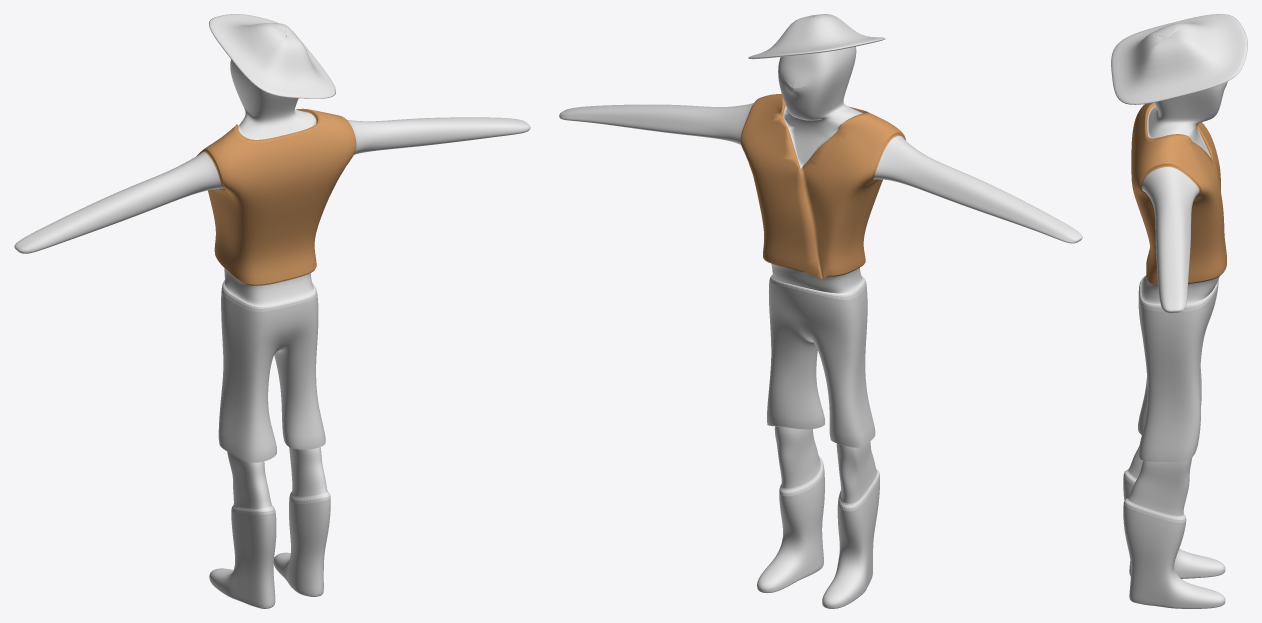
The model's file is Hero.fbx.
3 views of the same model, side by side, from view 1: azimuth 30°, elevation 25°; view 2: azimuth 150°, elevation 25°; view 3: azimuth 270°, elevation 25° (orthographic).
Visible parts, largest first — view 1: Hero; view 2: Hero; view 3: Hero.
Boxes of the visible parts, bbox=[...] form: Hero: bbox=[14, 14, 530, 608]; Hero: bbox=[559, 14, 1082, 608]; Hero: bbox=[1111, 14, 1247, 608].
Bounding box in the file's own units: 174 × 182 × 40.21.
